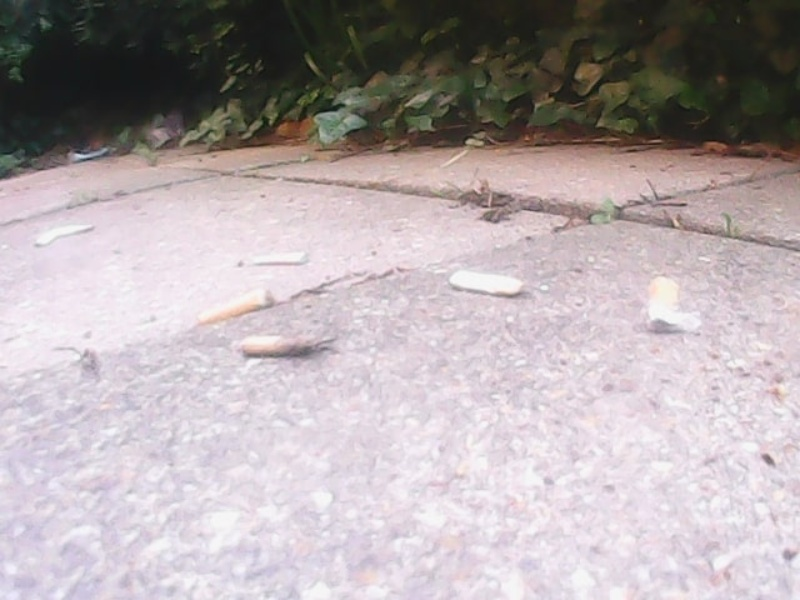cig: (242, 330, 334, 366), (644, 272, 684, 341), (449, 268, 530, 300), (34, 221, 96, 249), (187, 300, 268, 317), (249, 250, 312, 269)
